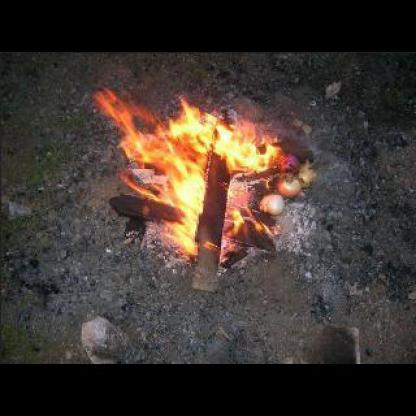fire: (87, 83, 297, 251)
